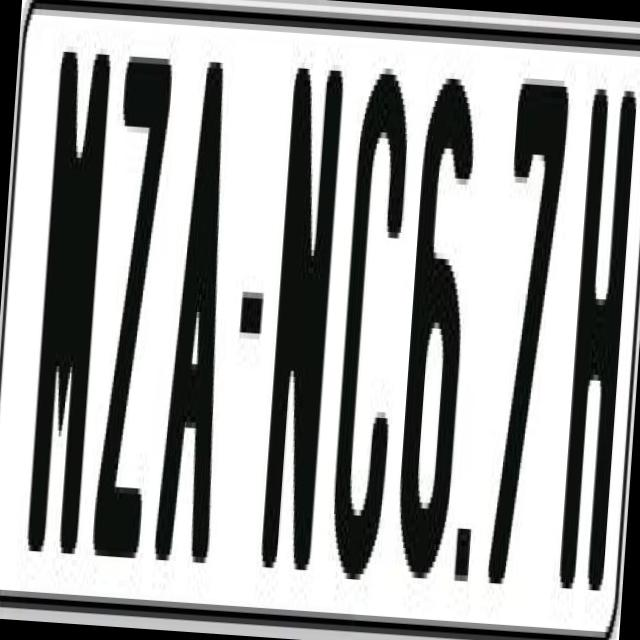6: (392, 59, 481, 585)
7: (480, 82, 570, 604)
A: (153, 60, 250, 575)
C: (322, 71, 416, 604)
H: (558, 70, 638, 596)
M: (20, 33, 116, 572)
N: (256, 67, 349, 600)
Z: (88, 49, 175, 582)
